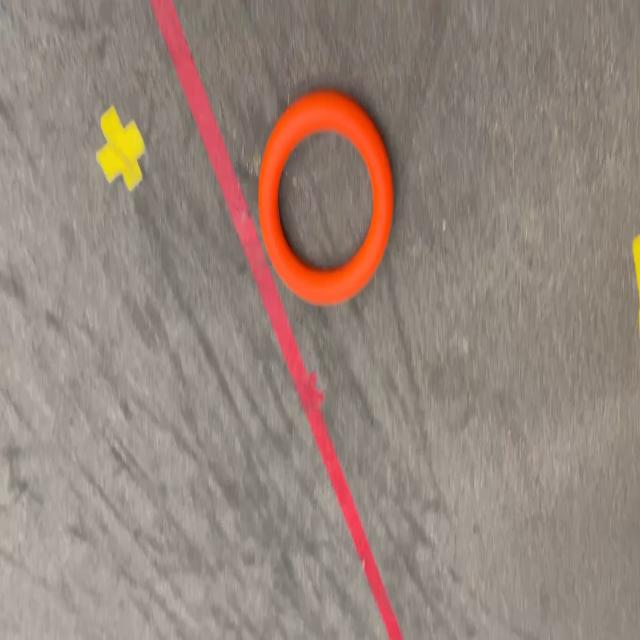note: (259, 93, 394, 304)
